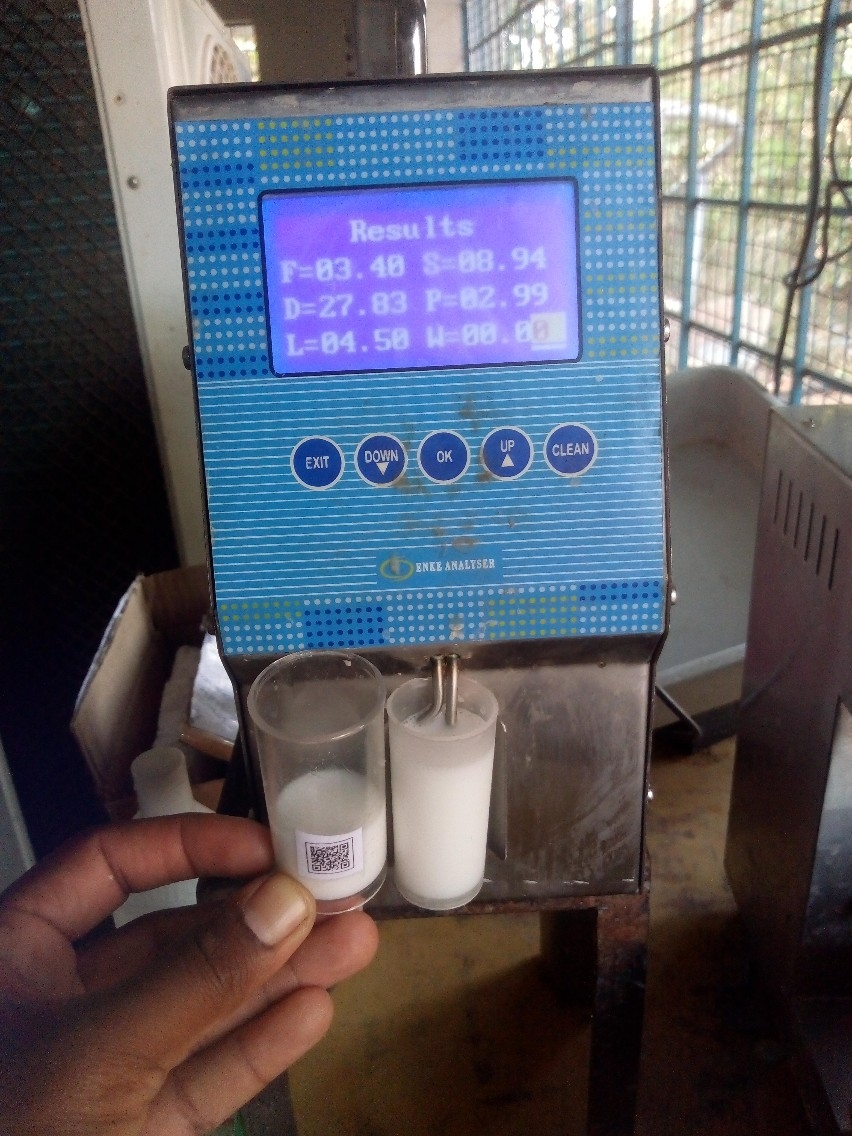lcd: (243, 176, 604, 383)
qr: (297, 833, 364, 885)
